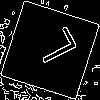L: (25, 25, 79, 71)
